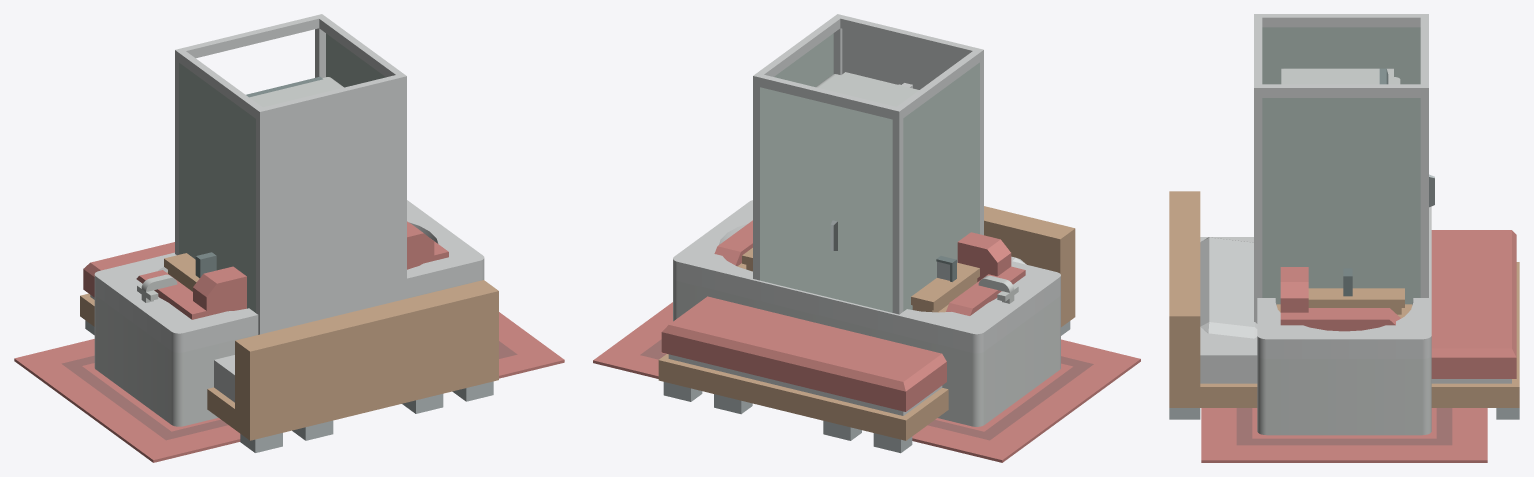
Rendered from furniture-kit.glb.
3 views of the same model, side by side, from view 1: azimuth 30°, elevation 25°; view 2: azimuth 150°, elevation 25°; view 3: azimuth 270°, elevation 25° (orthographic). The views are drawn at different scales.
Parts seen in each view (by area): view 1: shower, bedDouble, bathtub, rug, bedSingle, sofa, washerDryer, desk; view 2: shower, bedDouble, bathtub, rug, bedSingle, sofa, desk, washerDryer; view 3: shower, bedDouble, bathtub, rug, sofa, bedSingle, desk, washerDryer.
Part boxes in pixels (x1=…): shower: x1=175, y1=14, x2=406, y2=334; bedDouble: x1=80, y1=242, x2=498, y2=452; bathtub: x1=94, y1=200, x2=484, y2=426; rug: x1=14, y1=312, x2=564, y2=462; bedSingle: x1=141, y1=242, x2=448, y2=440; sofa: x1=136, y1=221, x2=448, y2=319; washerDryer: x1=246, y1=76, x2=336, y2=107; desk: x1=164, y1=253, x2=199, y2=291; shower: x1=753, y1=14, x2=983, y2=314; bedDouble: x1=658, y1=206, x2=1075, y2=453; bathtub: x1=673, y1=200, x2=1060, y2=426; rug: x1=593, y1=302, x2=1140, y2=462; bedSingle: x1=712, y1=220, x2=1010, y2=440; sofa: x1=714, y1=220, x2=1025, y2=315; desk: x1=742, y1=248, x2=979, y2=312; washerDryer: x1=823, y1=72, x2=919, y2=106; shower: x1=1254, y1=14, x2=1434, y2=323; bedDouble: x1=1169, y1=191, x2=1519, y2=419; bathtub: x1=1257, y1=206, x2=1431, y2=435; rug: x1=1201, y1=408, x2=1487, y2=462; sofa: x1=1280, y1=267, x2=1400, y2=331; bedSingle: x1=1169, y1=217, x2=1519, y2=361; desk: x1=1308, y1=288, x2=1404, y2=314; washerDryer: x1=1283, y1=68, x2=1388, y2=84.
Bounding box in the file's own units: 1.57 × 1.09 × 1.12.
